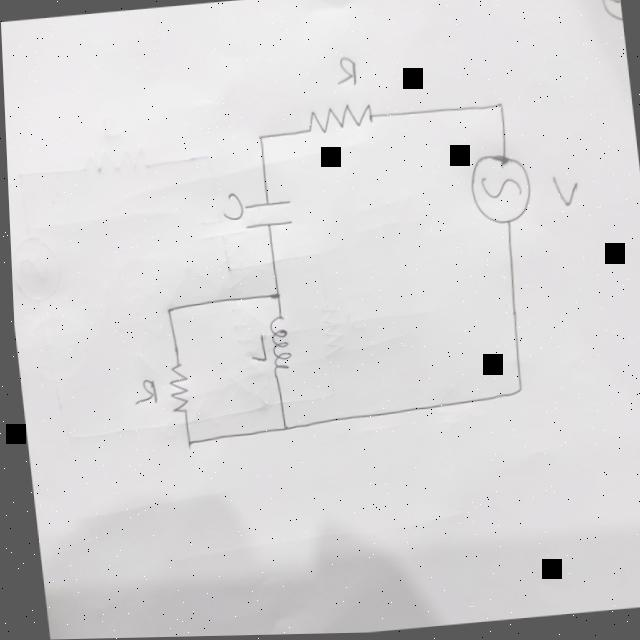capacitor: (241, 199, 294, 231)
inductor: (263, 314, 291, 376)
junction: (510, 381, 523, 400), (267, 287, 281, 304), (180, 434, 193, 451), (254, 131, 267, 146), (276, 420, 287, 435), (493, 103, 505, 114), (161, 305, 171, 316)
resistor: (301, 97, 377, 139), (162, 357, 188, 418)
source: (465, 151, 536, 228)
text: (550, 175, 579, 211), (331, 56, 360, 90), (127, 376, 155, 409), (218, 191, 243, 222), (245, 333, 266, 364)
